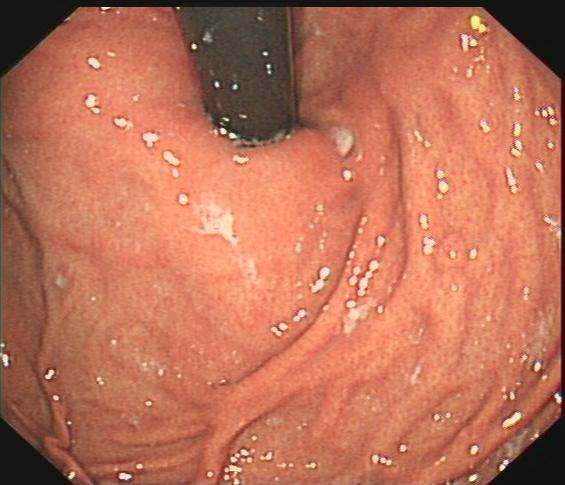Polyp: (427, 225, 480, 288)
